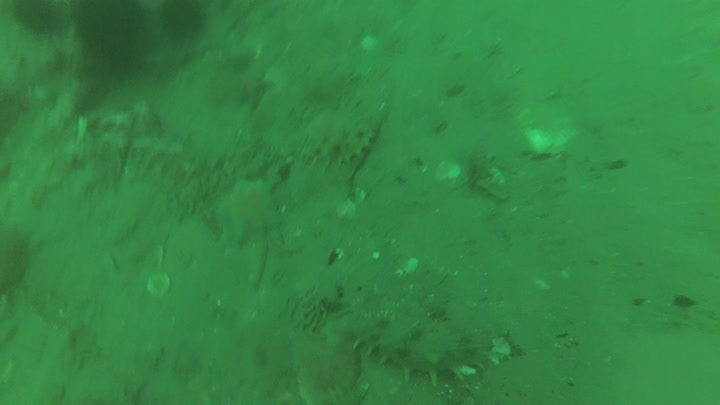holothurian: (348, 310, 483, 388), (299, 122, 378, 170)
starfish: (282, 103, 397, 201), (216, 177, 286, 247), (233, 58, 276, 115)
